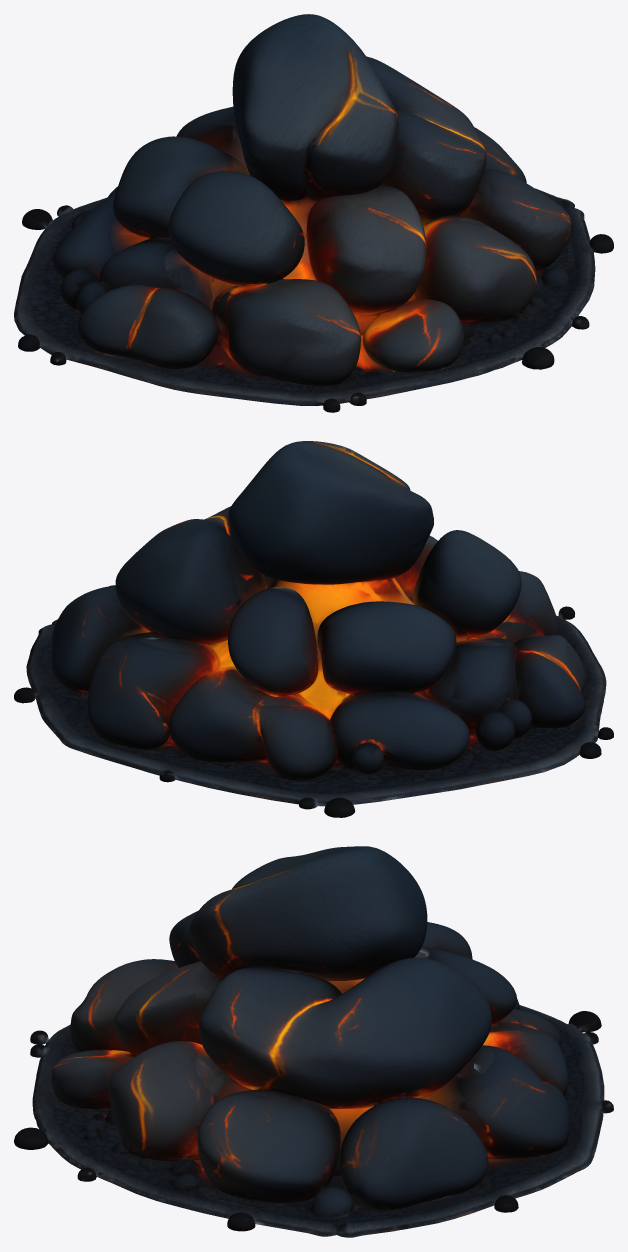
Rendered from CoolingRocks.glb.
3 views of the same model, one above another, from view 1: azimuth 30°, elevation 25°; view 2: azimuth 150°, elevation 25°; view 3: azimuth 270°, elevation 25° (orthographic). The views are drawn at different scales.
Visible parts, largest first — view 1: node_0; view 2: node_0; view 3: node_0.
Boxes of the visible parts, x1=… form: node_0: x1=14, y1=14, x2=613, y2=412; node_0: x1=14, y1=441, x2=613, y2=817; node_0: x1=14, y1=846, x2=613, y2=1237.
Size of the model in its own units: 1.1 by 0.4602 by 0.9765.
1 material, 1 textured.
